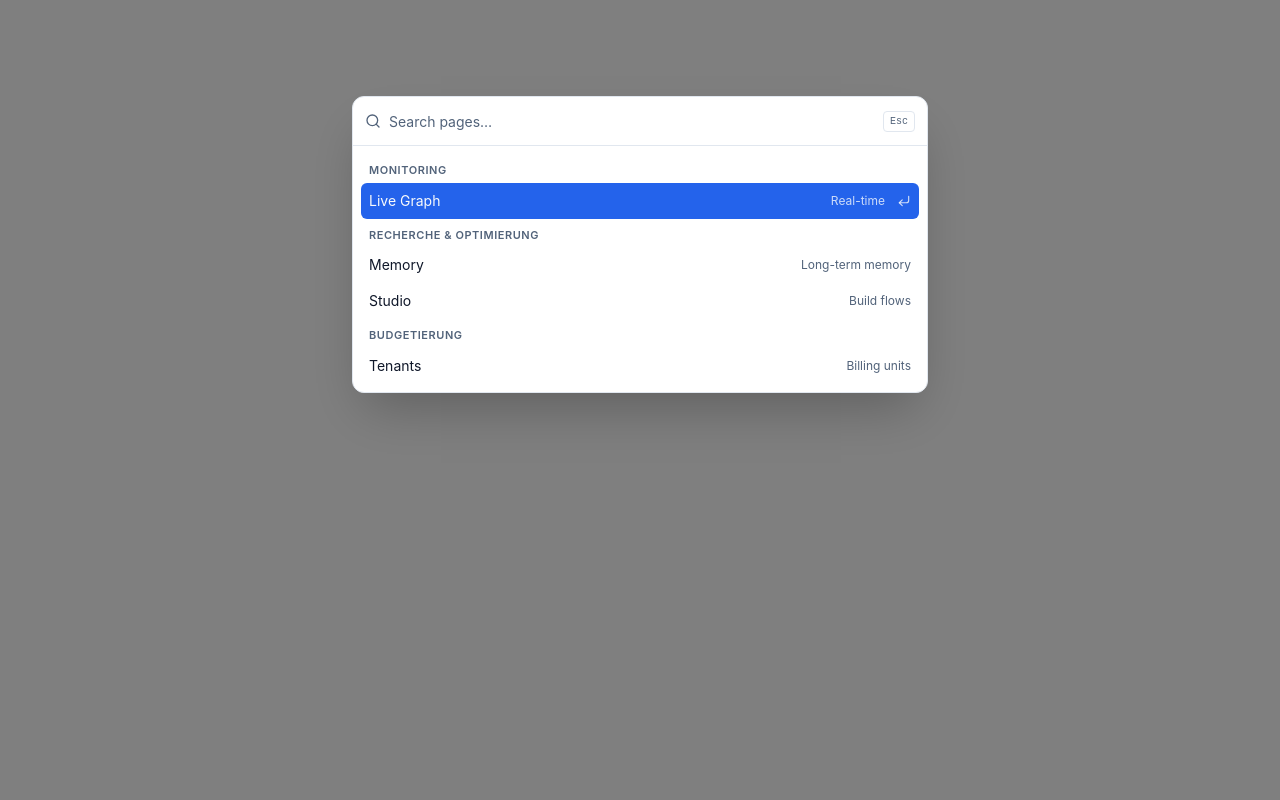
it: CommandPalette › filters options as the user types
Type "tenants" into the dropdown at (632, 121), box x1=389 y1=97 x2=875 y2=145
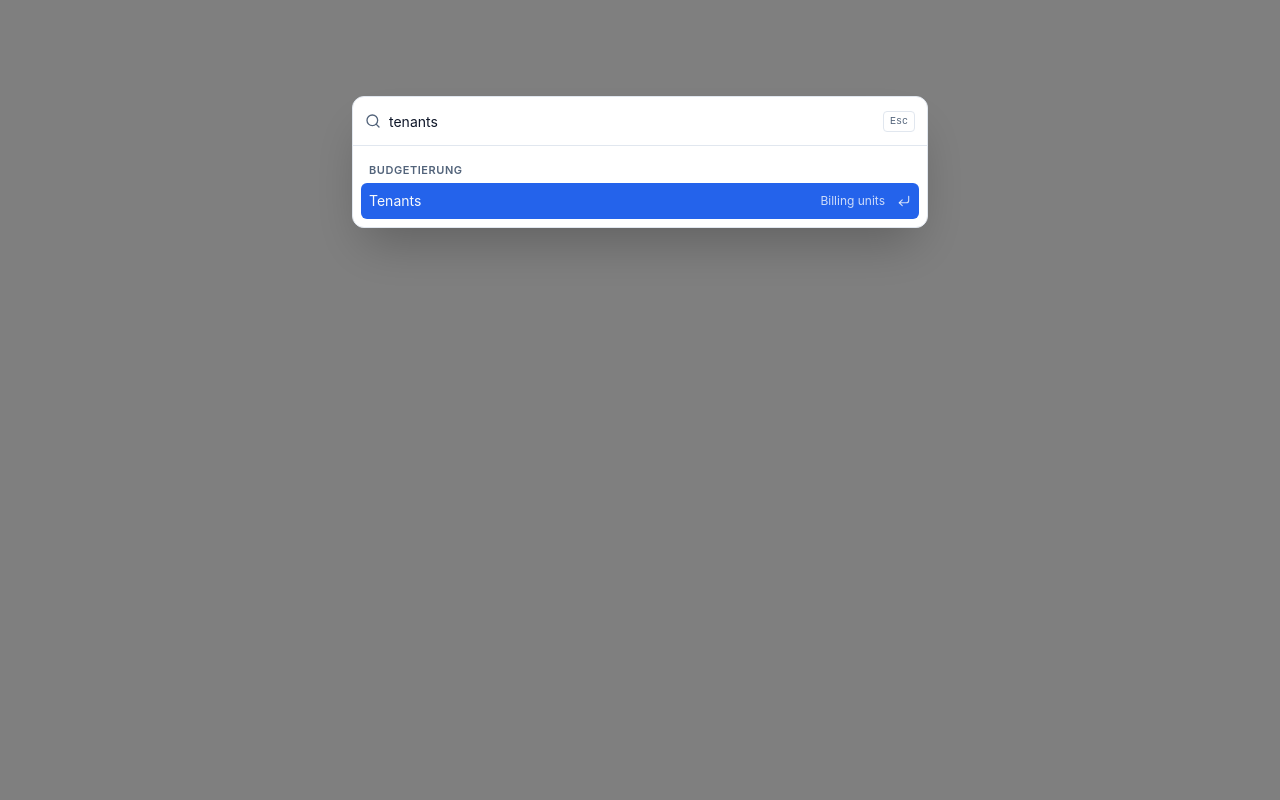
Check: the option shows "Tenants", box x1=361 y1=182 x2=919 y2=218
Check: the number of options is 1, box x1=361 y1=182 x2=919 y2=218
